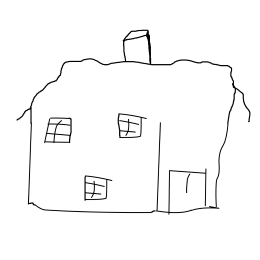chimney: (119, 20, 158, 67)
closed_window: (40, 112, 76, 149), (78, 168, 115, 203), (111, 110, 149, 144)
door: (163, 165, 213, 217)
single_line_roof: (12, 53, 252, 125)
wall: (21, 99, 231, 220)
